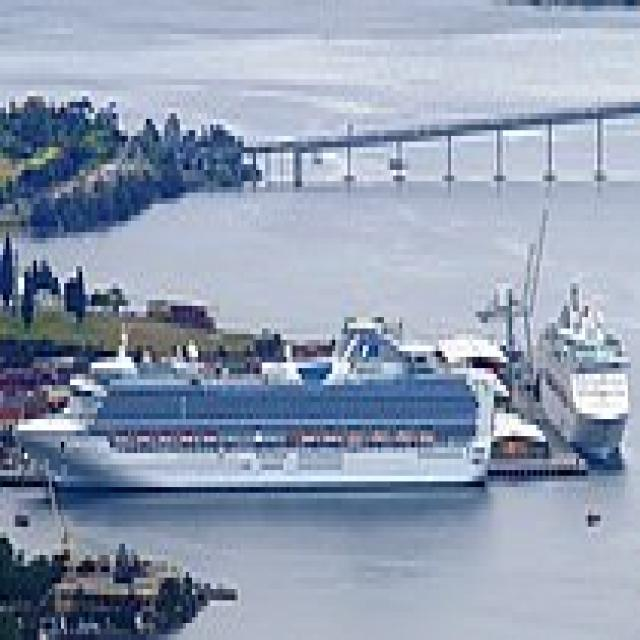Cruise: (9, 306, 494, 487), (527, 266, 631, 459)
